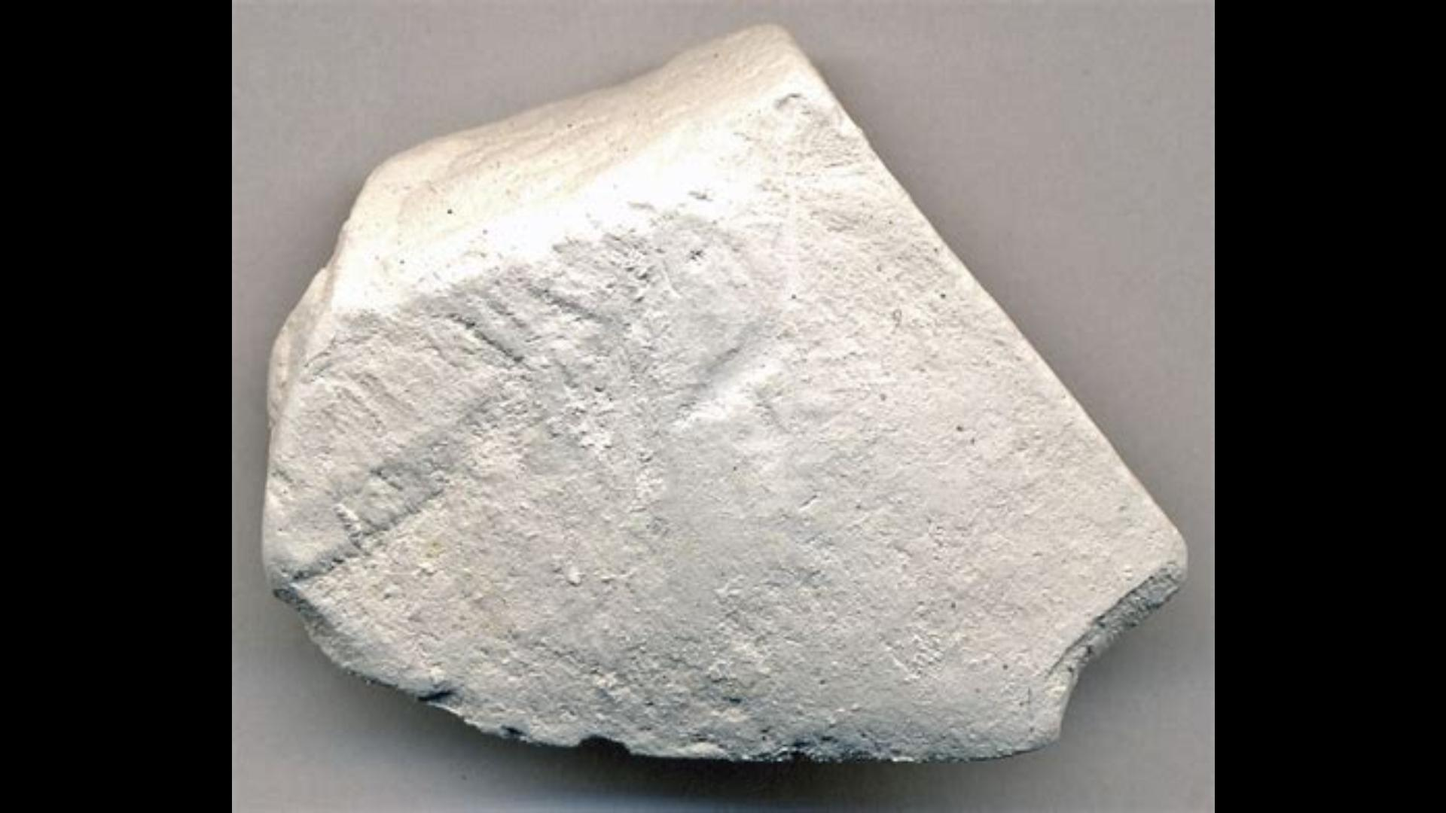rock: (266, 27, 1177, 755)
